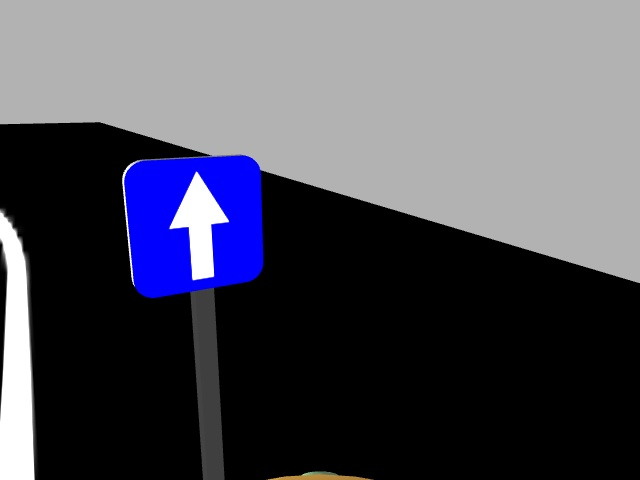OneWay: (120, 158, 264, 293)
